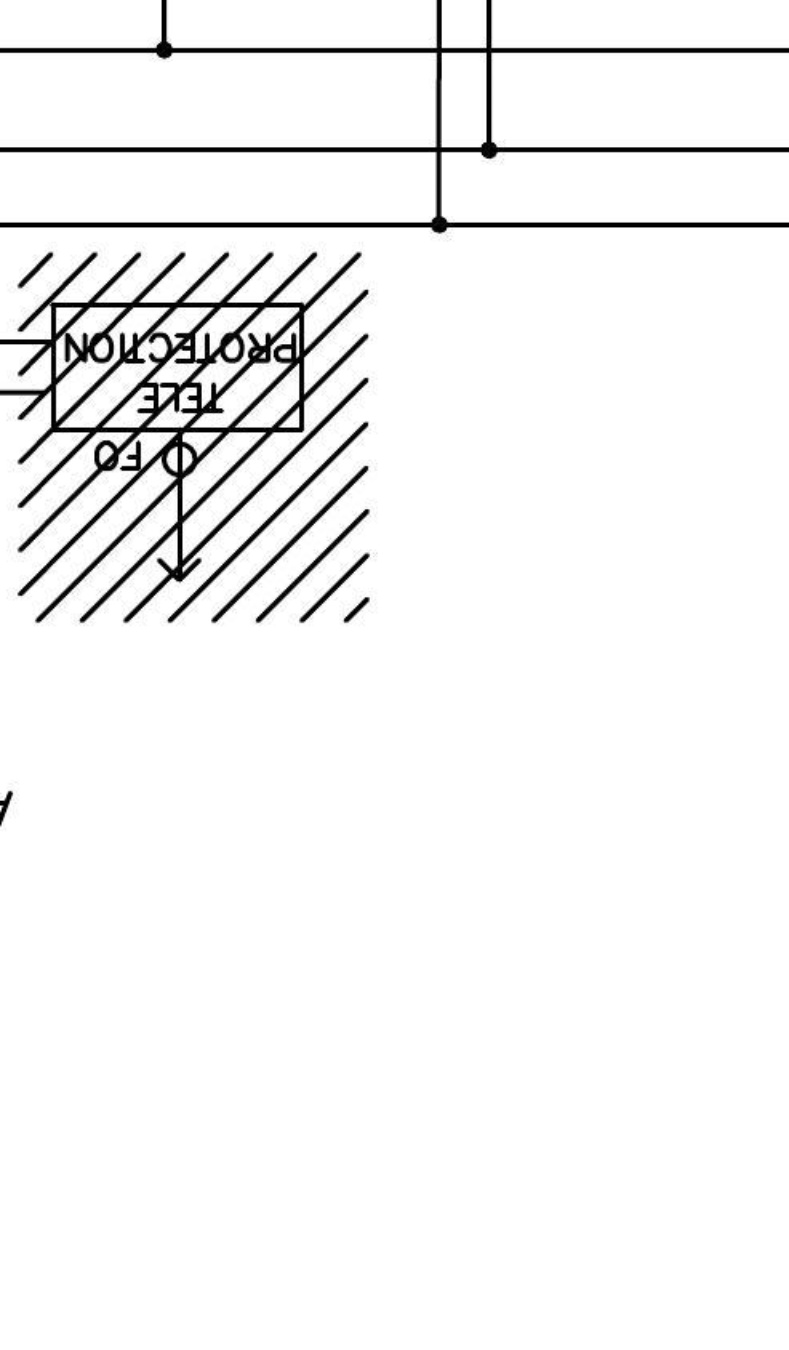tele_protection: (47, 297, 309, 436)
